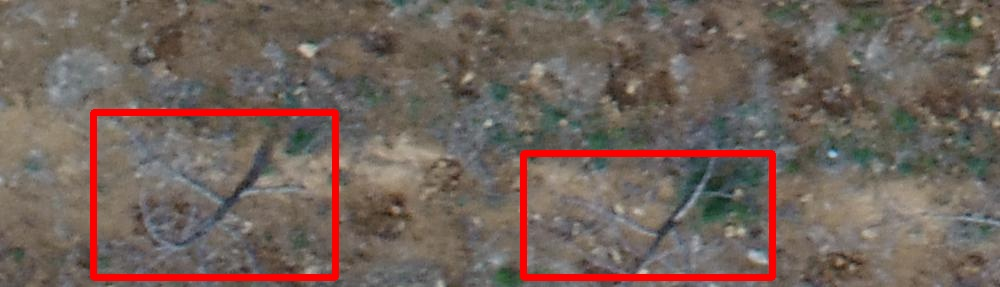apple: (93, 112, 335, 277), (523, 153, 772, 277)
